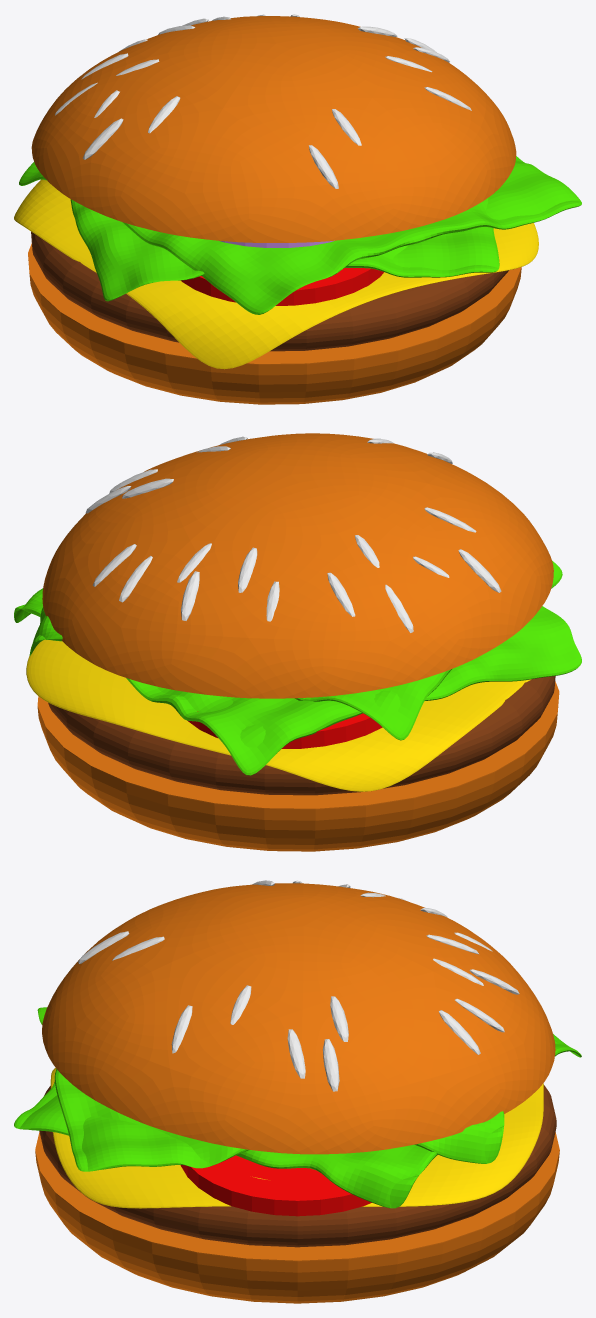
The model's file is BurgerFBX.fbx.
3 views of the same model, one above another, from view 1: azimuth 30°, elevation 25°; view 2: azimuth 150°, elevation 25°; view 3: azimuth 270°, elevation 25° (orthographic). The views are drawn at different scales.
Visible parts, largest first — view 1: BreadT, BreadD, Cheese, Lettuse2, Meat, Lettuce1, Tomatoes; view 2: BreadT, BreadD, Cheese, Lettuce1, Meat, Lettuse2, Tomatoes; view 3: BreadT, BreadD, Meat, Cheese, Lettuse2, Lettuce1, Tomatoes.
Part boxes in pixels (x1,y1,x2,y2): BreadT: (31,14,516,242); BreadD: (28,243,521,404); Cheese: (14,179,538,369); Lettuse2: (19,156,581,314); Meat: (31,231,508,351); Lettuce1: (70,199,499,301); Tomatoes: (181,268,383,305); BreadT: (42,433,553,698); BreadD: (37,681,559,851); Cheese: (26,639,531,791); Lettuce1: (14,588,581,775); Meat: (48,676,555,795); Lettuse2: (29,560,562,740); Tomatoes: (187,711,382,748); BreadT: (42,880,555,1154); BreadD: (35,1132,559,1303); Meat: (39,1084,556,1247); Cheese: (50,1067,543,1208); Lettuse2: (37,1007,504,1171); Lettuce1: (14,1034,581,1208); Tomatoes: (180,1155,371,1216).
Size of the model in its own units: 204 by 124 by 217.
